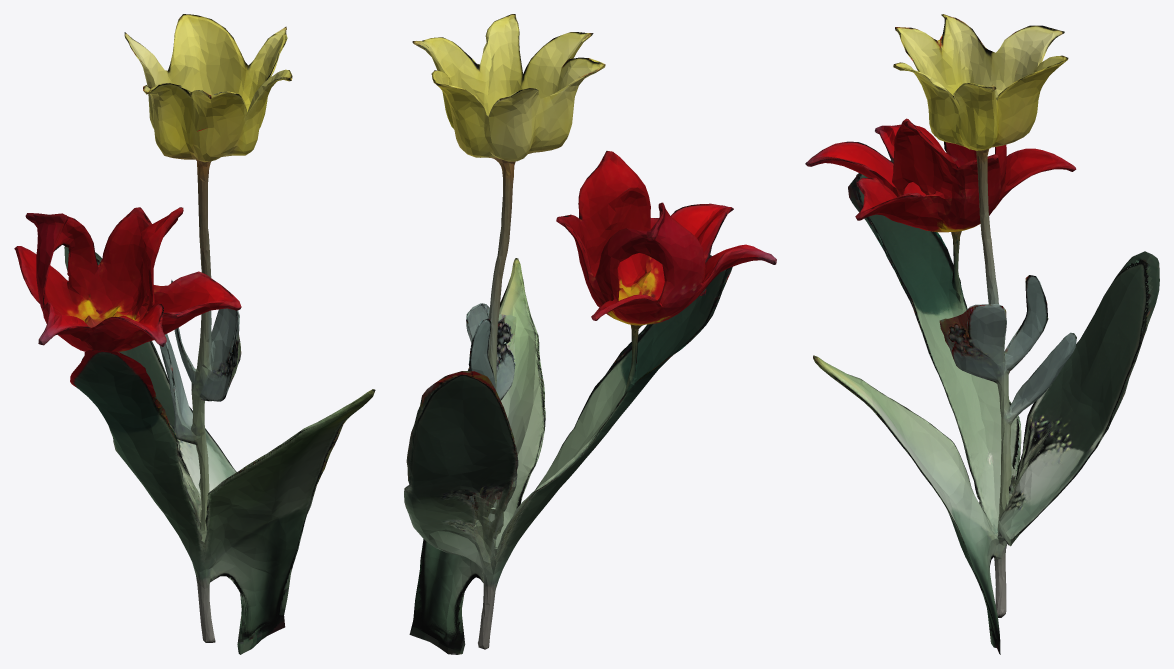
Rendered from tyulpan.glb.
3 views of the same model, side by side, from view 1: azimuth 30°, elevation 25°; view 2: azimuth 150°, elevation 25°; view 3: azimuth 270°, elevation 25° (orthographic). The views are drawn at different scales.
Size of the model in its own units: 53.22 by 100 by 55.51.
1 material, 1 textured.
